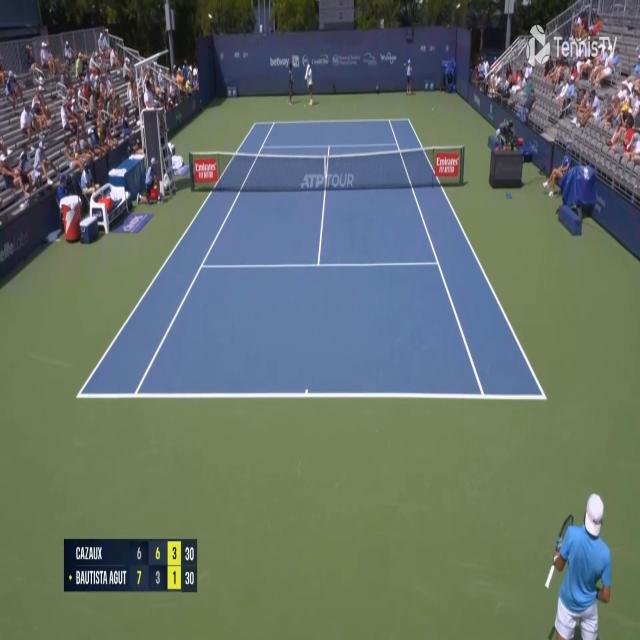tennis-player: (540, 486, 613, 639), (305, 64, 315, 107)
